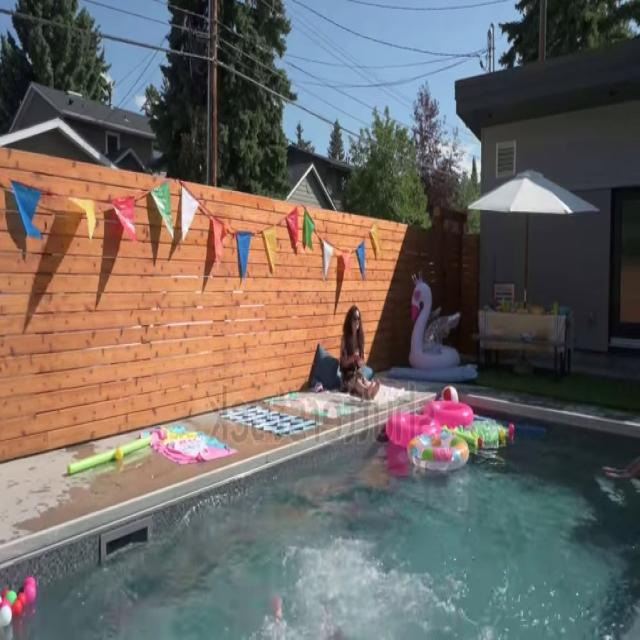adult: (338, 303, 381, 396)
